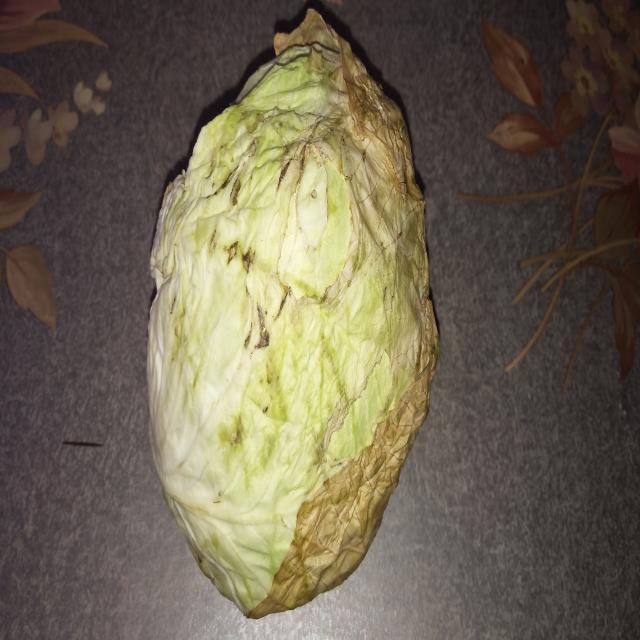cabbage: (143, 0, 444, 632)
